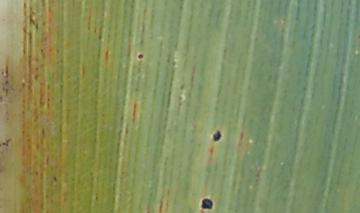tarspot: (200, 197, 214, 211), (211, 128, 222, 143), (2, 137, 12, 148), (4, 62, 10, 79), (40, 126, 46, 137), (4, 87, 10, 97), (136, 53, 144, 60), (53, 47, 60, 55), (34, 22, 39, 33), (21, 80, 26, 90), (33, 73, 39, 81), (52, 174, 57, 183), (3, 79, 9, 86), (34, 65, 40, 72), (39, 47, 44, 54), (1, 94, 4, 103), (1, 70, 5, 76)
